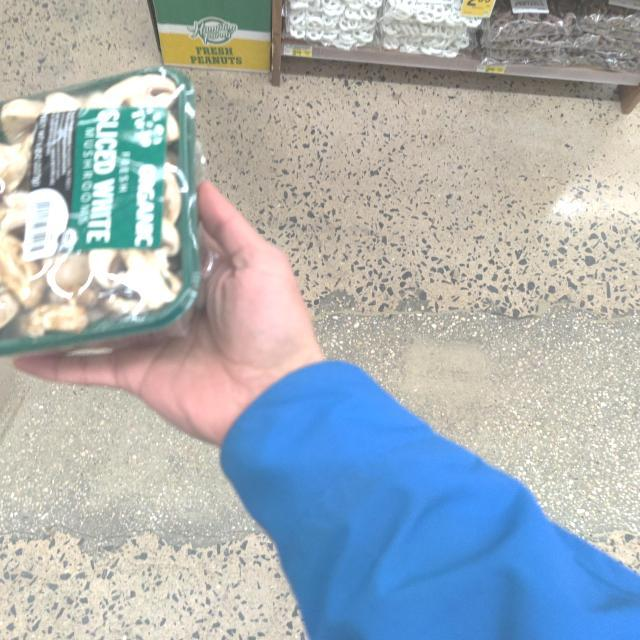mushroom: (0, 80, 209, 351)
